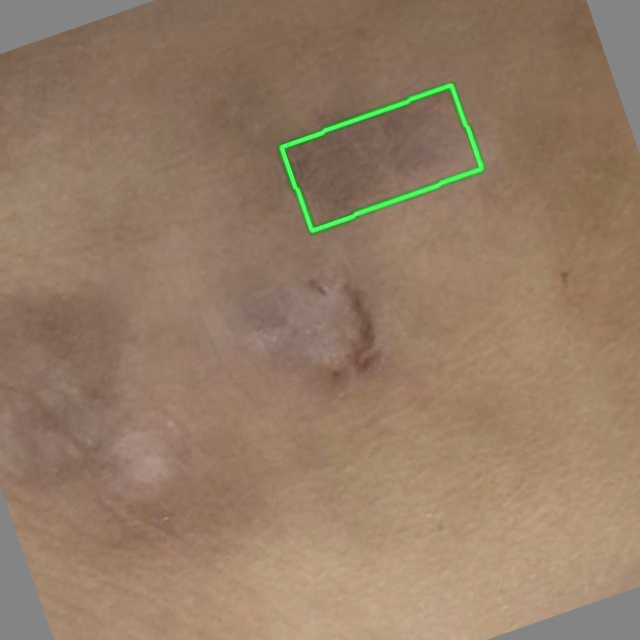Eczema: (281, 85, 482, 230)
